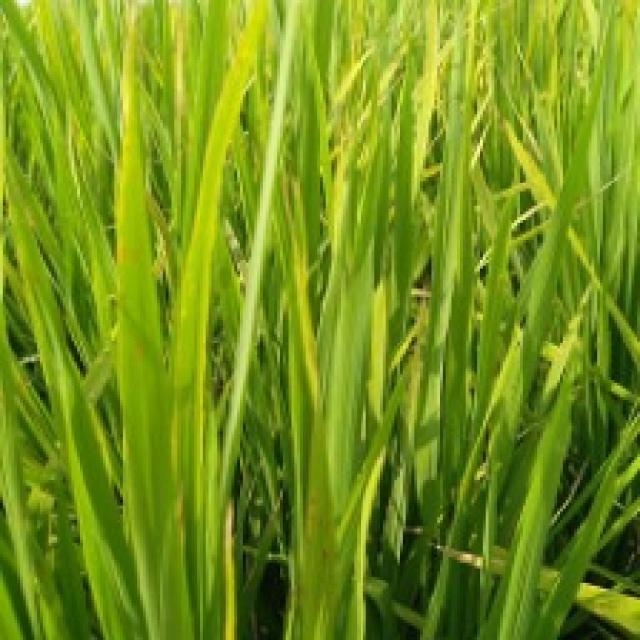Rice___Brown_Spot: (169, 0, 261, 637), (112, 5, 196, 637)
